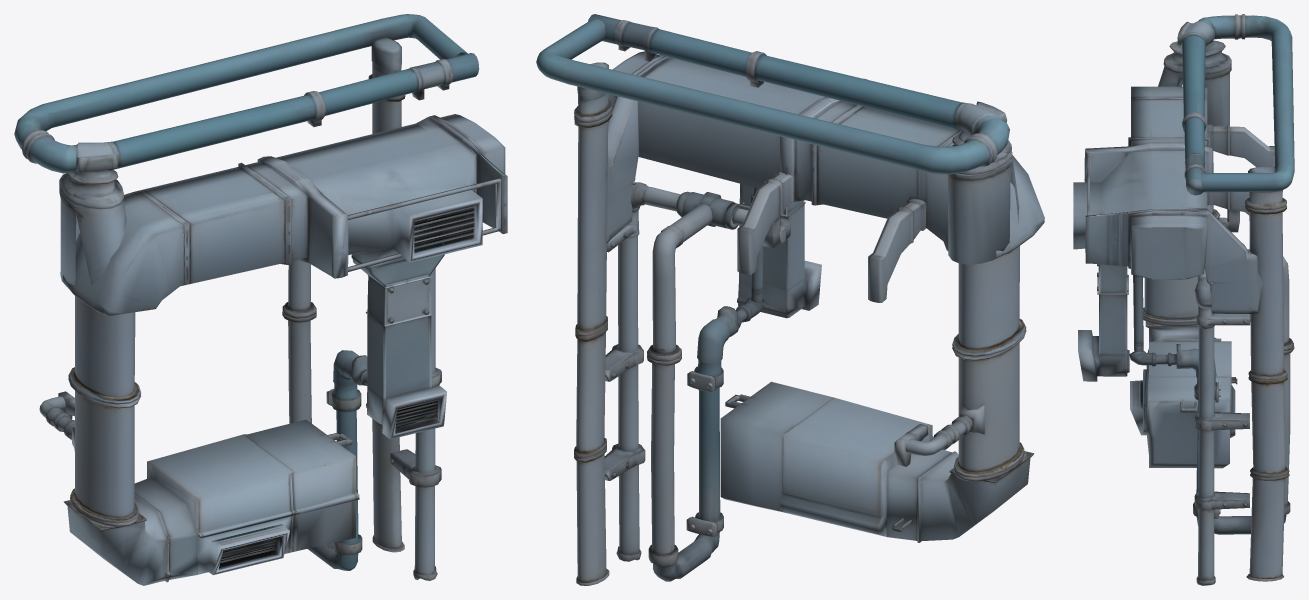
Rendered from industrial_pipe_3d_model.fbx.
3 views of the same model, side by side, from view 1: azimuth 30°, elevation 25°; view 2: azimuth 150°, elevation 25°; view 3: azimuth 270°, elevation 25° (orthographic). The views are drawn at different scales.
Parts seen in each view (by area): view 1: eeb4a04e_4b14_404a_96fc_d08d45e21359; view 2: eeb4a04e_4b14_404a_96fc_d08d45e21359; view 3: eeb4a04e_4b14_404a_96fc_d08d45e21359.
Part boxes in pixels (x1=…): eeb4a04e_4b14_404a_96fc_d08d45e21359: x1=14, y1=14, x2=507, y2=585; eeb4a04e_4b14_404a_96fc_d08d45e21359: x1=536, y1=14, x2=1044, y2=585; eeb4a04e_4b14_404a_96fc_d08d45e21359: x1=1073, y1=14, x2=1294, y2=585.
Size of the model in its own units: 0.855 by 0.9995 by 0.4722.
Materials: 1 (1 with a texture image).
